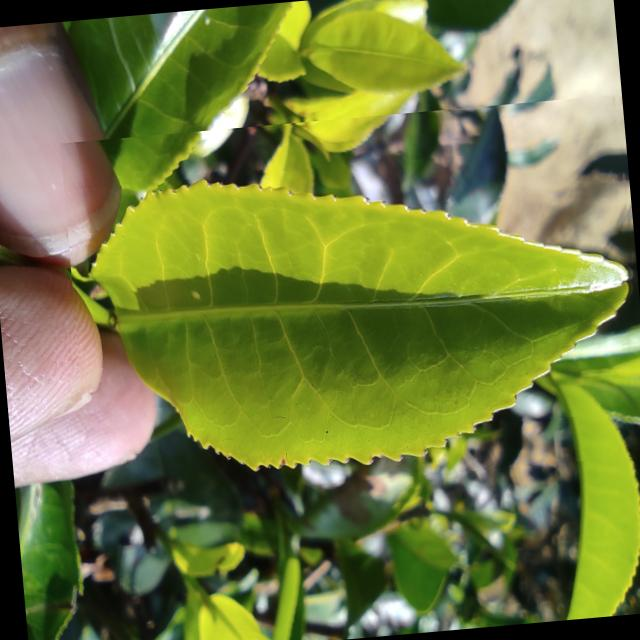Category C(4-7 days): (59, 94, 640, 527)
